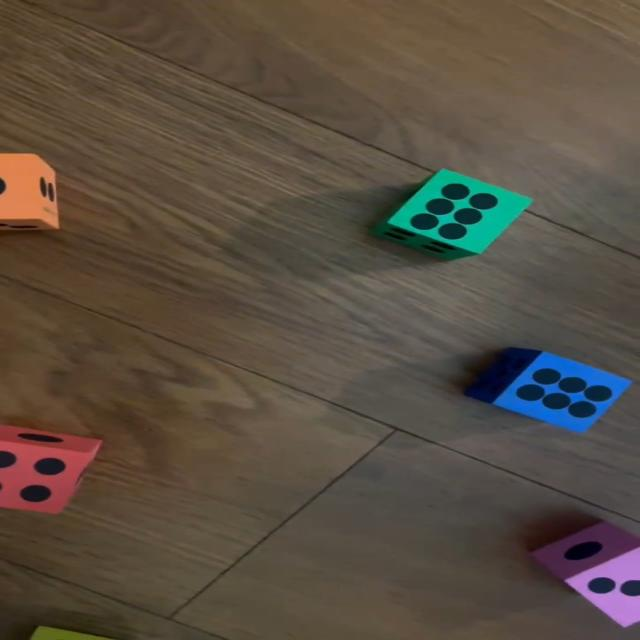blue_block: (469, 348, 633, 433)
red_block: (0, 424, 101, 512)
